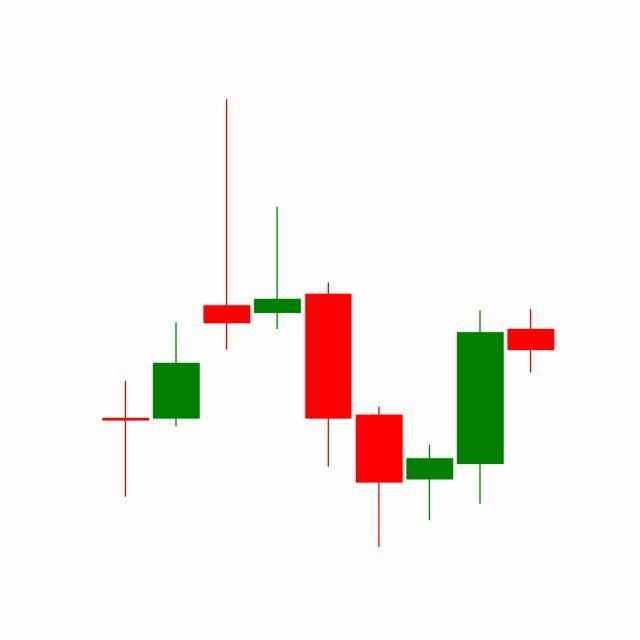Hikkake Pattern: (252, 202, 506, 548)
